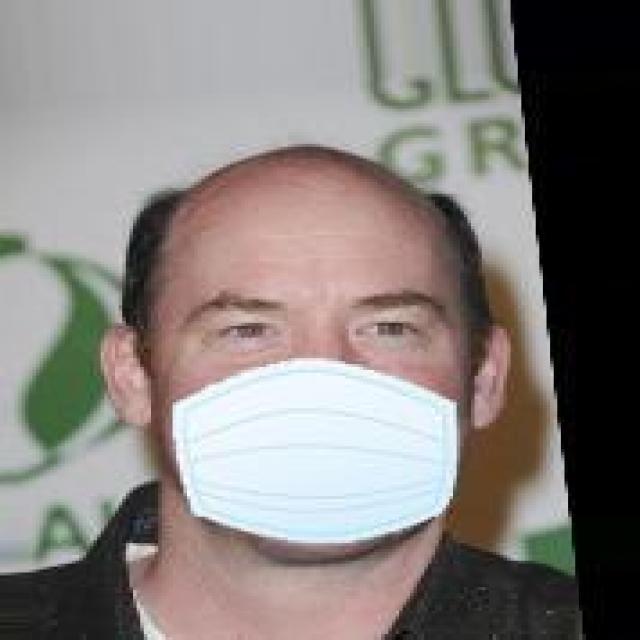mask: (111, 106, 536, 543)
